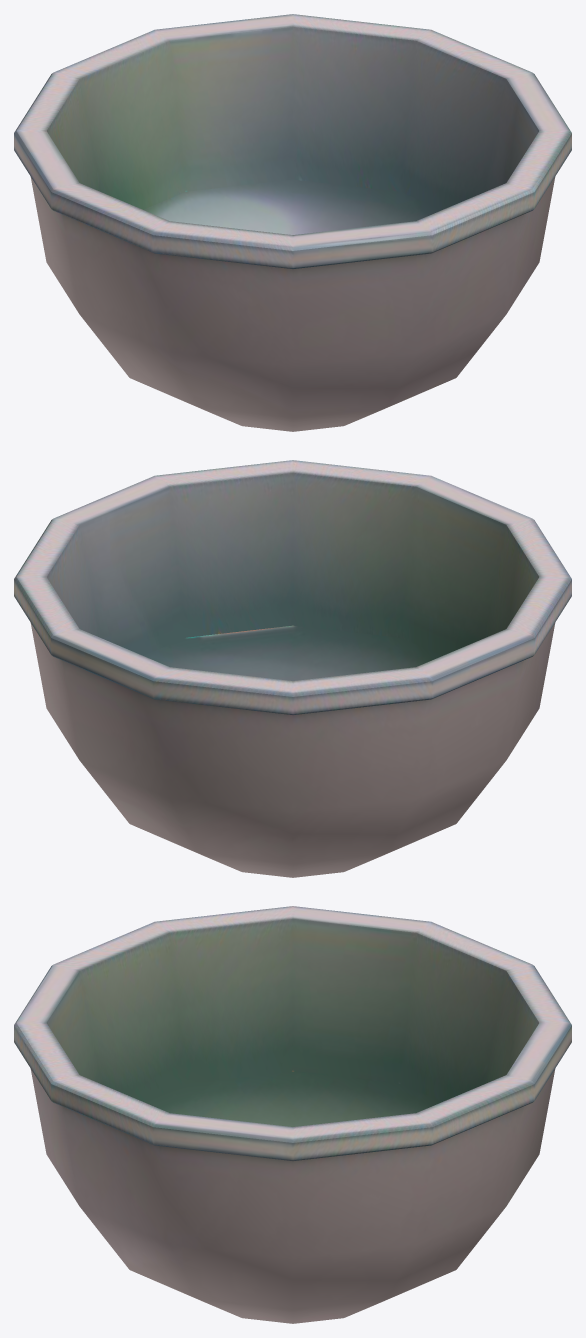
Rendered from mixingBowlSugar.gltf.
3 renders of one model, top to bottom at view 1: azimuth 30°, elevation 25°; view 2: azimuth 150°, elevation 25°; view 3: azimuth 270°, elevation 25°, orthographic.
Parts seen in each view (by area): view 1: MixingBowl; view 2: MixingBowl; view 3: MixingBowl.
Boxes of the visible parts, bbox=[...] form: MixingBowl: bbox=[14, 14, 571, 431]; MixingBowl: bbox=[14, 460, 571, 877]; MixingBowl: bbox=[14, 906, 571, 1323].
Bounding box in the file's own units: 0.3931 × 0.2142 × 0.3931.
2 materials, 2 textured.
